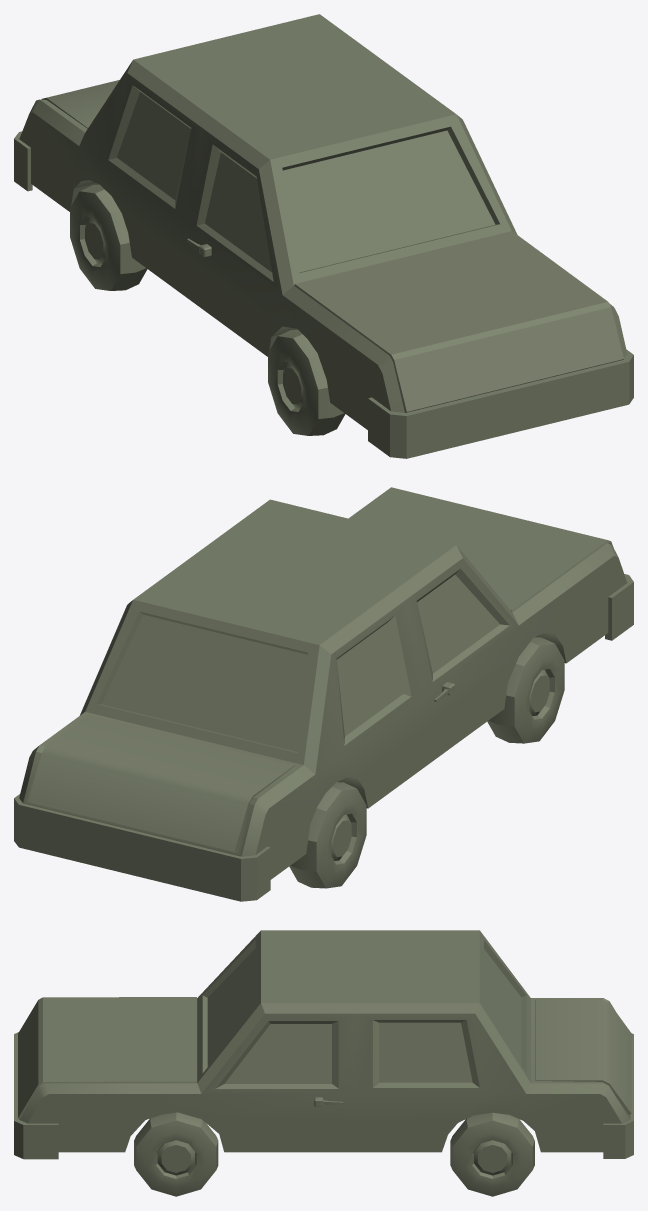
File: Carro.fbx
3 renders of one model, top to bottom at view 1: azimuth 30°, elevation 25°; view 2: azimuth 150°, elevation 25°; view 3: azimuth 270°, elevation 25°, orthographic. The views are drawn at different scales.
Visible parts, largest first — view 1: Carro Quadrado.001; view 2: Carro Quadrado.001; view 3: Carro Quadrado.001.
Part boxes in pixels (<box>): Carro Quadrado.001: <box>14,14,633,458</box>; Carro Quadrado.001: <box>14,487,633,901</box>; Carro Quadrado.001: <box>14,930,633,1196</box>.
Bounding box in the file's own units: 205 × 178 × 543.
